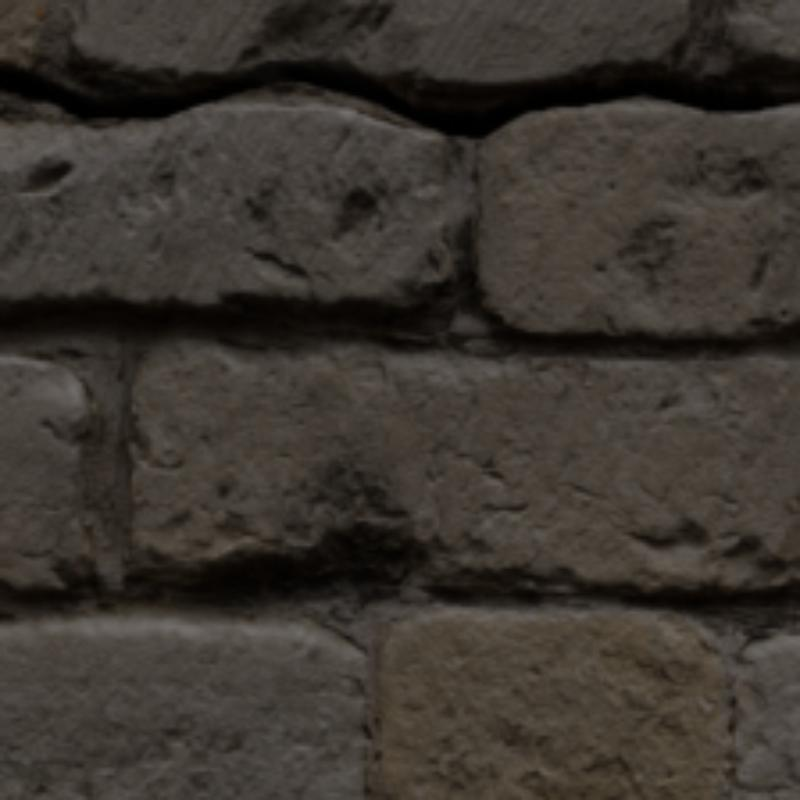pothole: (0, 57, 796, 136)
